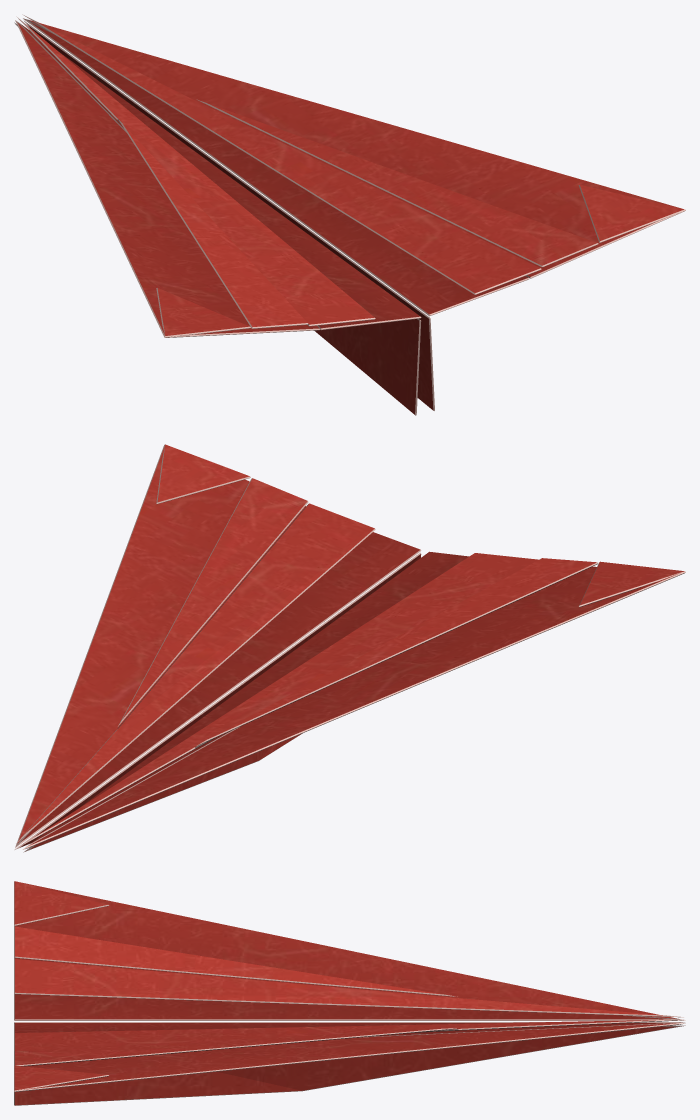
File: plane_flight_red.glb
The picture shows the model from 3 angles, top to bottom: view 1: azimuth 30°, elevation 25°; view 2: azimuth 150°, elevation 25°; view 3: azimuth 270°, elevation 25°; orthographic projection. The views are drawn at different scales.
Parts seen in each view (by area): view 1: wing_r, wing_l, plane; view 2: wing_r, wing_l, plane; view 3: wing_l, wing_r, plane.
Boxes of the visible parts, x1,y1,x2,y2 form: wing_r: (22,14,685,316); wing_l: (15,16,421,337); plane: (14,21,434,415); wing_r: (15,444,421,847); wing_l: (22,551,685,849); plane: (14,552,421,852); wing_l: (14,881,685,1020); wing_r: (14,1019,685,1091); plane: (14,1022,685,1105).
Bounding box in the file's own units: 0.2071 × 0.0534 × 0.2797.
Materials: 1 (1 with a texture image).
